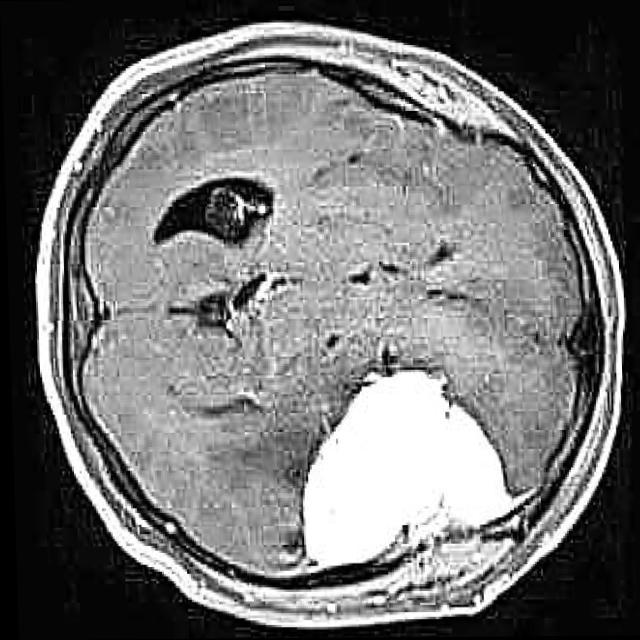Tumor: (298, 376, 509, 570)
